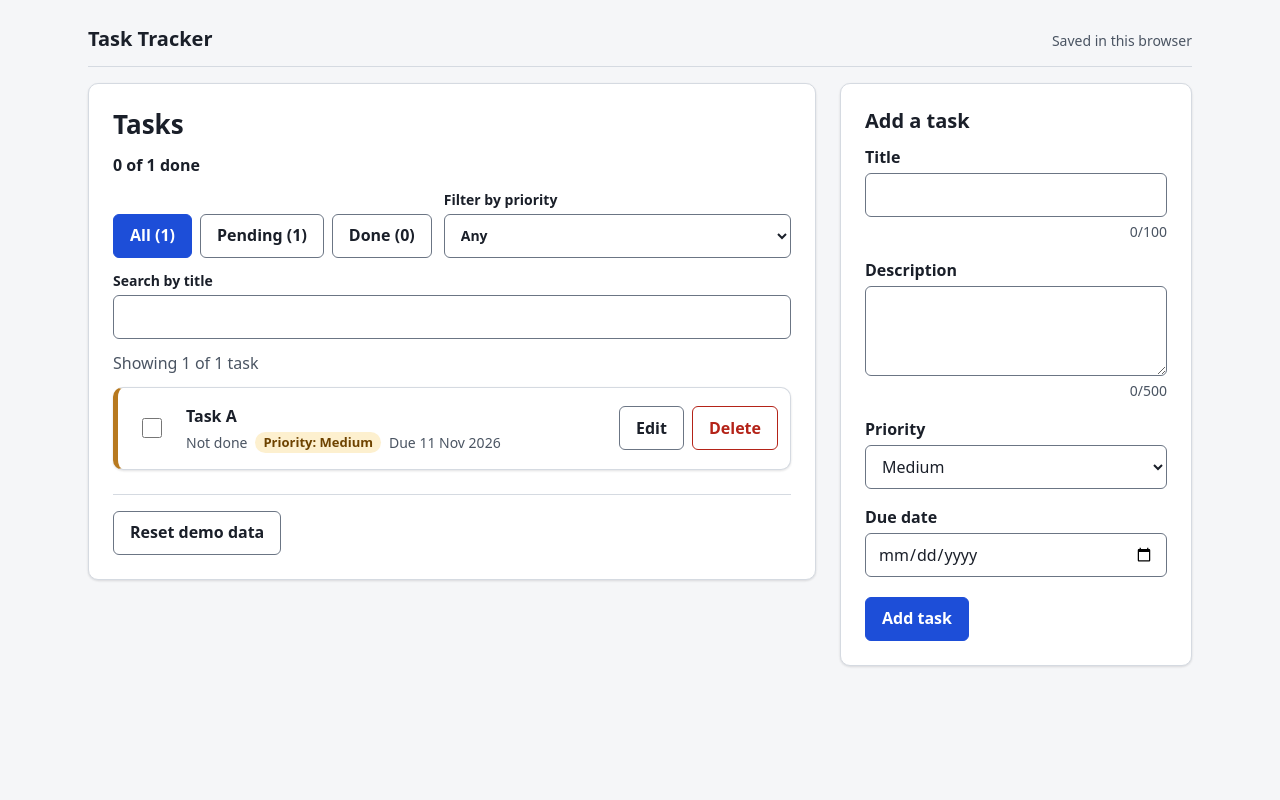
Reset demo data › asks first; Cancel (or Escape) changes nothing and focus returns to the button
Click the button "Reset demo data" at point(197, 533), box [113, 511, 281, 555]
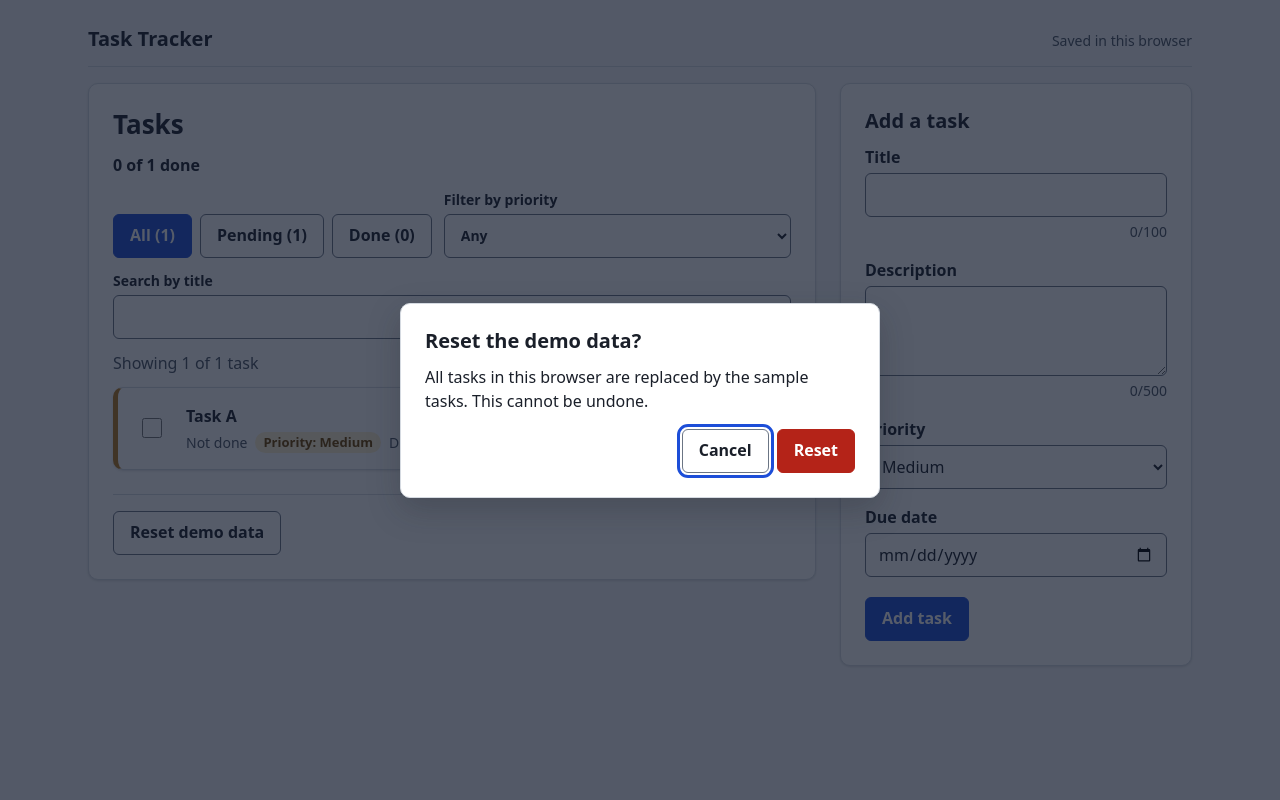
Press Escape
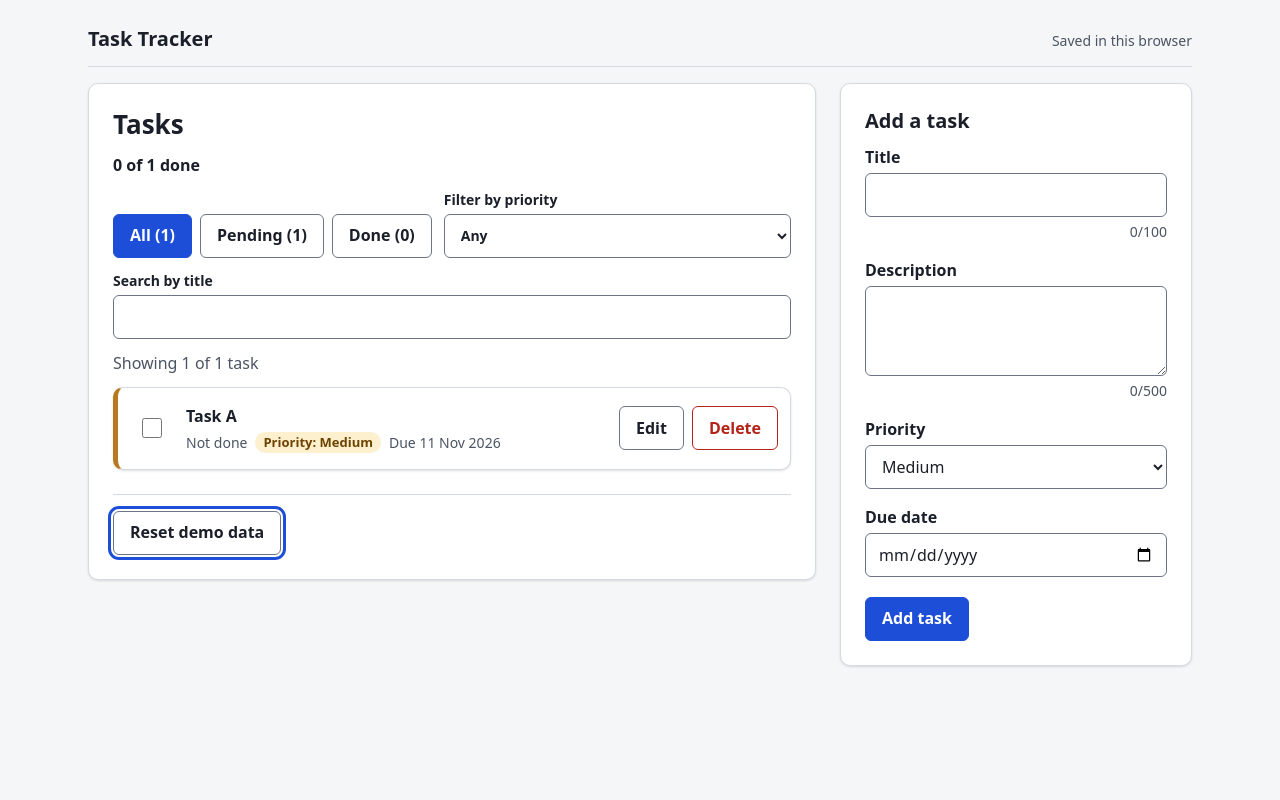
Check: the dialog is gone
